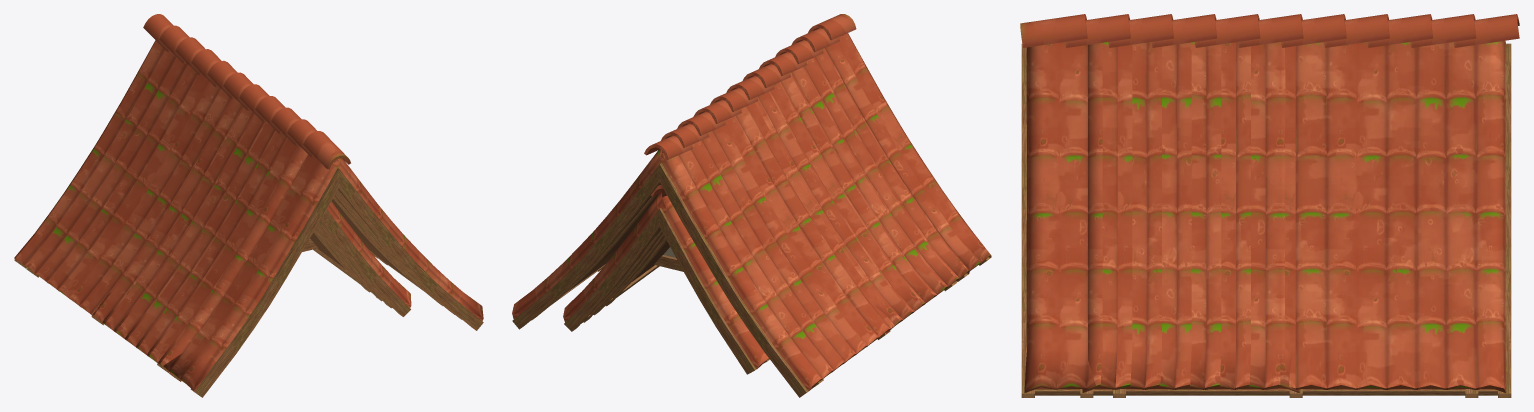
The model's file is village.glb.
3 views of the same model, side by side, from view 1: azimuth 30°, elevation 25°; view 2: azimuth 150°, elevation 25°; view 3: azimuth 270°, elevation 25° (orthographic). The views are drawn at different scales.
Parts seen in each view (by area): view 1: Roof_RoundTiles_6x6, Roof_RoundTiles_6x4, Roof_RoundTiles_4x6, Roof_RoundTiles_4x4; view 2: Roof_RoundTiles_6x6, Roof_RoundTiles_6x4, Roof_RoundTiles_4x6, Roof_RoundTiles_4x4; view 3: Roof_RoundTiles_6x6, Roof_RoundTiles_6x4.
Boxes of the visible parts, x1,y1,x2,y2 form: Roof_RoundTiles_6x6: (14, 14, 454, 381); Roof_RoundTiles_6x4: (91, 73, 483, 397); Roof_RoundTiles_4x6: (312, 201, 411, 316); Roof_RoundTiles_4x4: (310, 226, 381, 301); Roof_RoundTiles_6x6: (512, 28, 969, 397); Roof_RoundTiles_6x4: (598, 14, 991, 339); Roof_RoundTiles_4x6: (563, 185, 769, 374); Roof_RoundTiles_4x4: (594, 234, 669, 315); Roof_RoundTiles_6x6: (1080, 14, 1519, 397); Roof_RoundTiles_6x4: (1020, 14, 1303, 397).
Bounding box in the file's own units: 8.25 × 5.67 × 8.79.
Materials: 7 (6 with a texture image).
